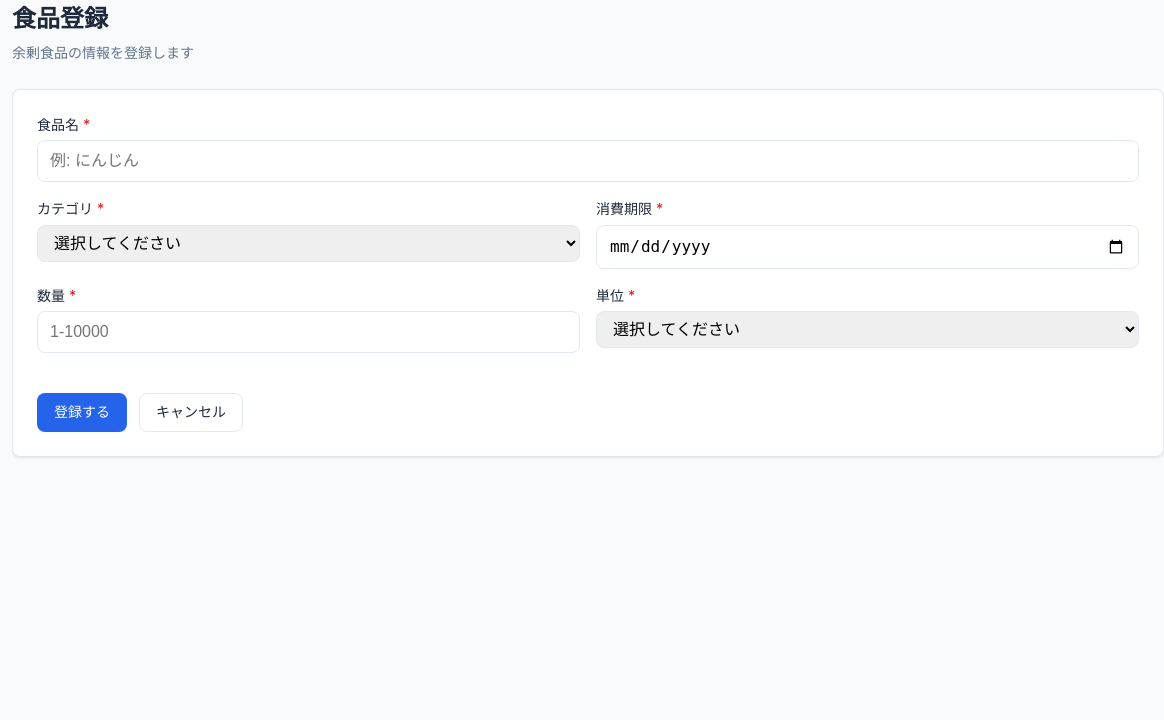
Test: FoodItemForm › 空のフォームを送信するとバリデーションエラーが表示される
Step 1. Click the button "登録する" → (82, 412), box [37, 393, 127, 432]
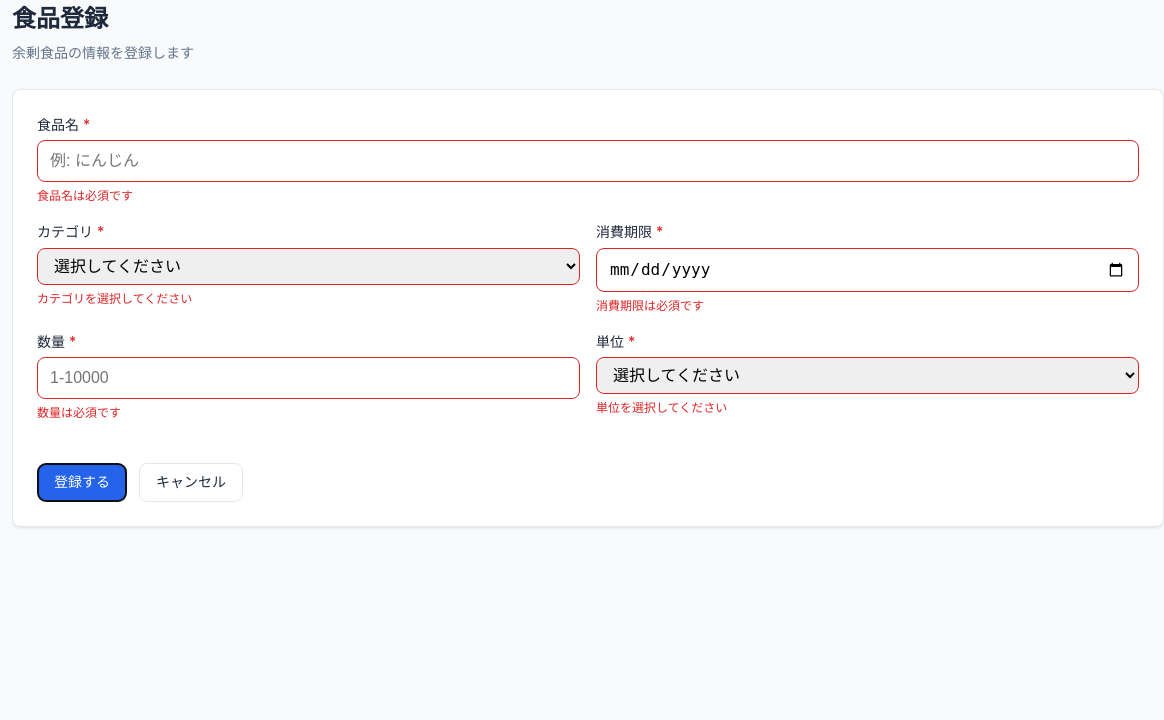
Check: the text "食品名は必須です" is shown, box [37, 188, 133, 203]
Check: the text "カテゴリを選択してください" is shown, box [37, 291, 192, 306]
Check: the text "消費期限は必須です" is shown, box [596, 298, 704, 313]
